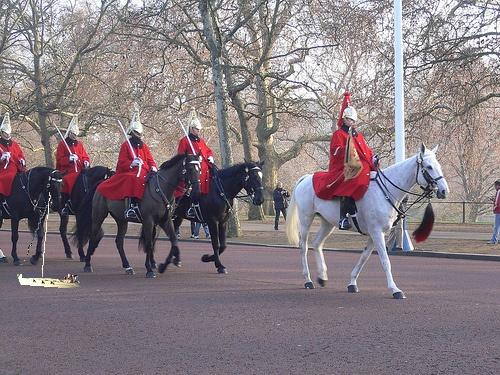tampered: (18, 193, 81, 288)
